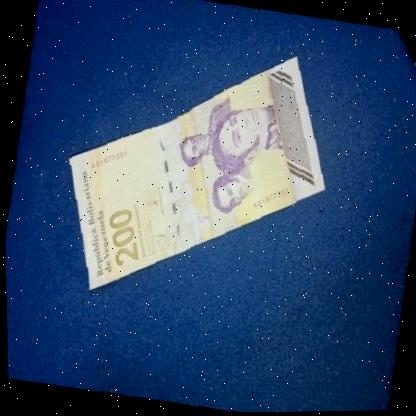two_hundred-front-vef: (41, 16, 351, 332)
